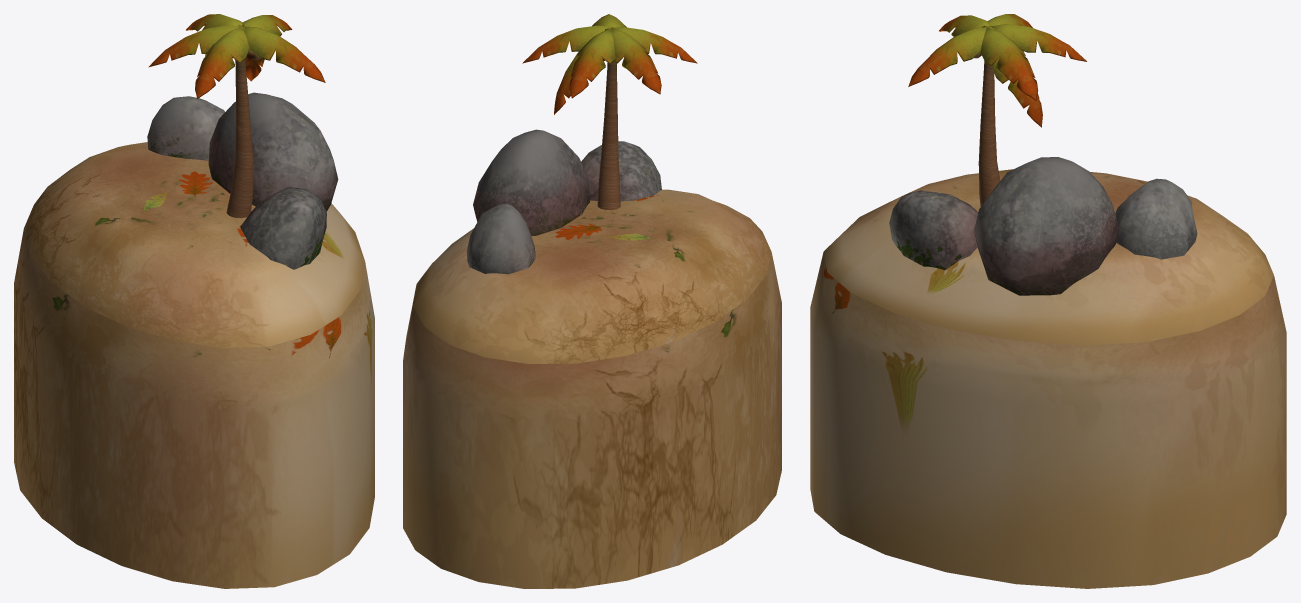
Rendered from island1.fbx.
3 renders of one model, left to right at view 1: azimuth 30°, elevation 25°; view 2: azimuth 150°, elevation 25°; view 3: azimuth 270°, elevation 25°, orthographic. The views are drawn at different scales.
Parts seen in each view (by area): view 1: rock1; view 2: rock1; view 3: rock1.
Boxes of the visible parts, box(x1,y1,x2,y2) form: rock1: box(14, 14, 374, 588); rock1: box(403, 14, 781, 588); rock1: box(810, 14, 1286, 588).
Size of the model in its own units: 969 by 1467 by 1288.
